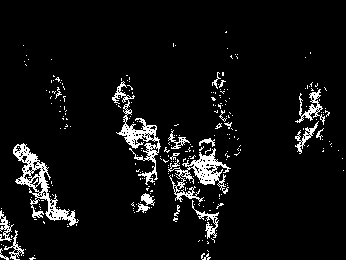person: (10, 142, 79, 226), (188, 138, 230, 258), (118, 117, 160, 214), (160, 122, 198, 222), (110, 73, 134, 133)
